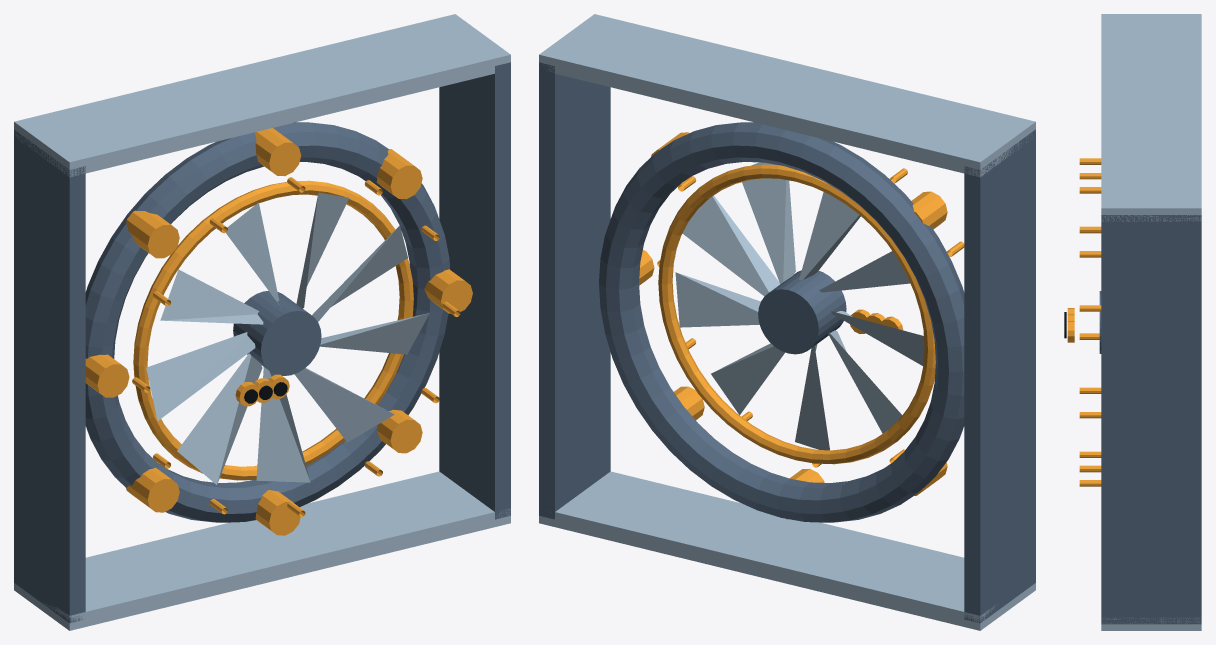
File: 56_L88_VentilationMainCirculationBlower.fbx
3 renders of one model, left to right at view 1: azimuth 30°, elevation 25°; view 2: azimuth 150°, elevation 25°; view 3: azimuth 270°, elevation 25°, orthographic. The views are drawn at different scales.
Visible parts, largest first — view 1: L87_VentilationMainCirculationBlower_Part_0000, L87_VentilationMainCirculationBlower_Part_0005, L87_VentilationMainCirculationBlower_Part_0004, L87_VentilationMainCirculationBlower_Part_0001, L87_VentilationMainCirculationBlower_Part_0003, L87_VentilationMainCirculationBlower_Part_0002; view 2: L87_VentilationMainCirculationBlower_Part_0000, L87_VentilationMainCirculationBlower_Part_0005, L87_VentilationMainCirculationBlower_Part_0004, L87_VentilationMainCirculationBlower_Part_0001, L87_VentilationMainCirculationBlower_Part_0003; view 3: L87_VentilationMainCirculationBlower_Part_0000, L87_VentilationMainCirculationBlower_Part_0005, L87_VentilationMainCirculationBlower_Part_0001.
Part boxes in pixels (left/top/right/bottom): L87_VentilationMainCirculationBlower_Part_0000: left=14, top=62, right=510, bottom=623; L87_VentilationMainCirculationBlower_Part_0005: left=14, top=14, right=510, bottom=630; L87_VentilationMainCirculationBlower_Part_0004: left=146, top=192, right=429, bottom=484; L87_VentilationMainCirculationBlower_Part_0001: left=85, top=128, right=472, bottom=535; L87_VentilationMainCirculationBlower_Part_0003: left=233, top=291, right=321, bottom=375; L87_VentilationMainCirculationBlower_Part_0002: left=377, top=409, right=422, bottom=453; L87_VentilationMainCirculationBlower_Part_0000: left=539, top=62, right=1035, bottom=623; L87_VentilationMainCirculationBlower_Part_0005: left=539, top=14, right=1035, bottom=630; L87_VentilationMainCirculationBlower_Part_0004: left=675, top=162, right=924, bottom=450; L87_VentilationMainCirculationBlower_Part_0001: left=639, top=132, right=964, bottom=519; L87_VentilationMainCirculationBlower_Part_0003: left=758, top=270, right=846, bottom=354; L87_VentilationMainCirculationBlower_Part_0000: left=1101, top=215, right=1201, bottom=624; L87_VentilationMainCirculationBlower_Part_0005: left=1101, top=14, right=1201, bottom=630; L87_VentilationMainCirculationBlower_Part_0001: left=1079, top=158, right=1101, bottom=486.
Size of the model in its own units: 275 by 279 by 82.2.
